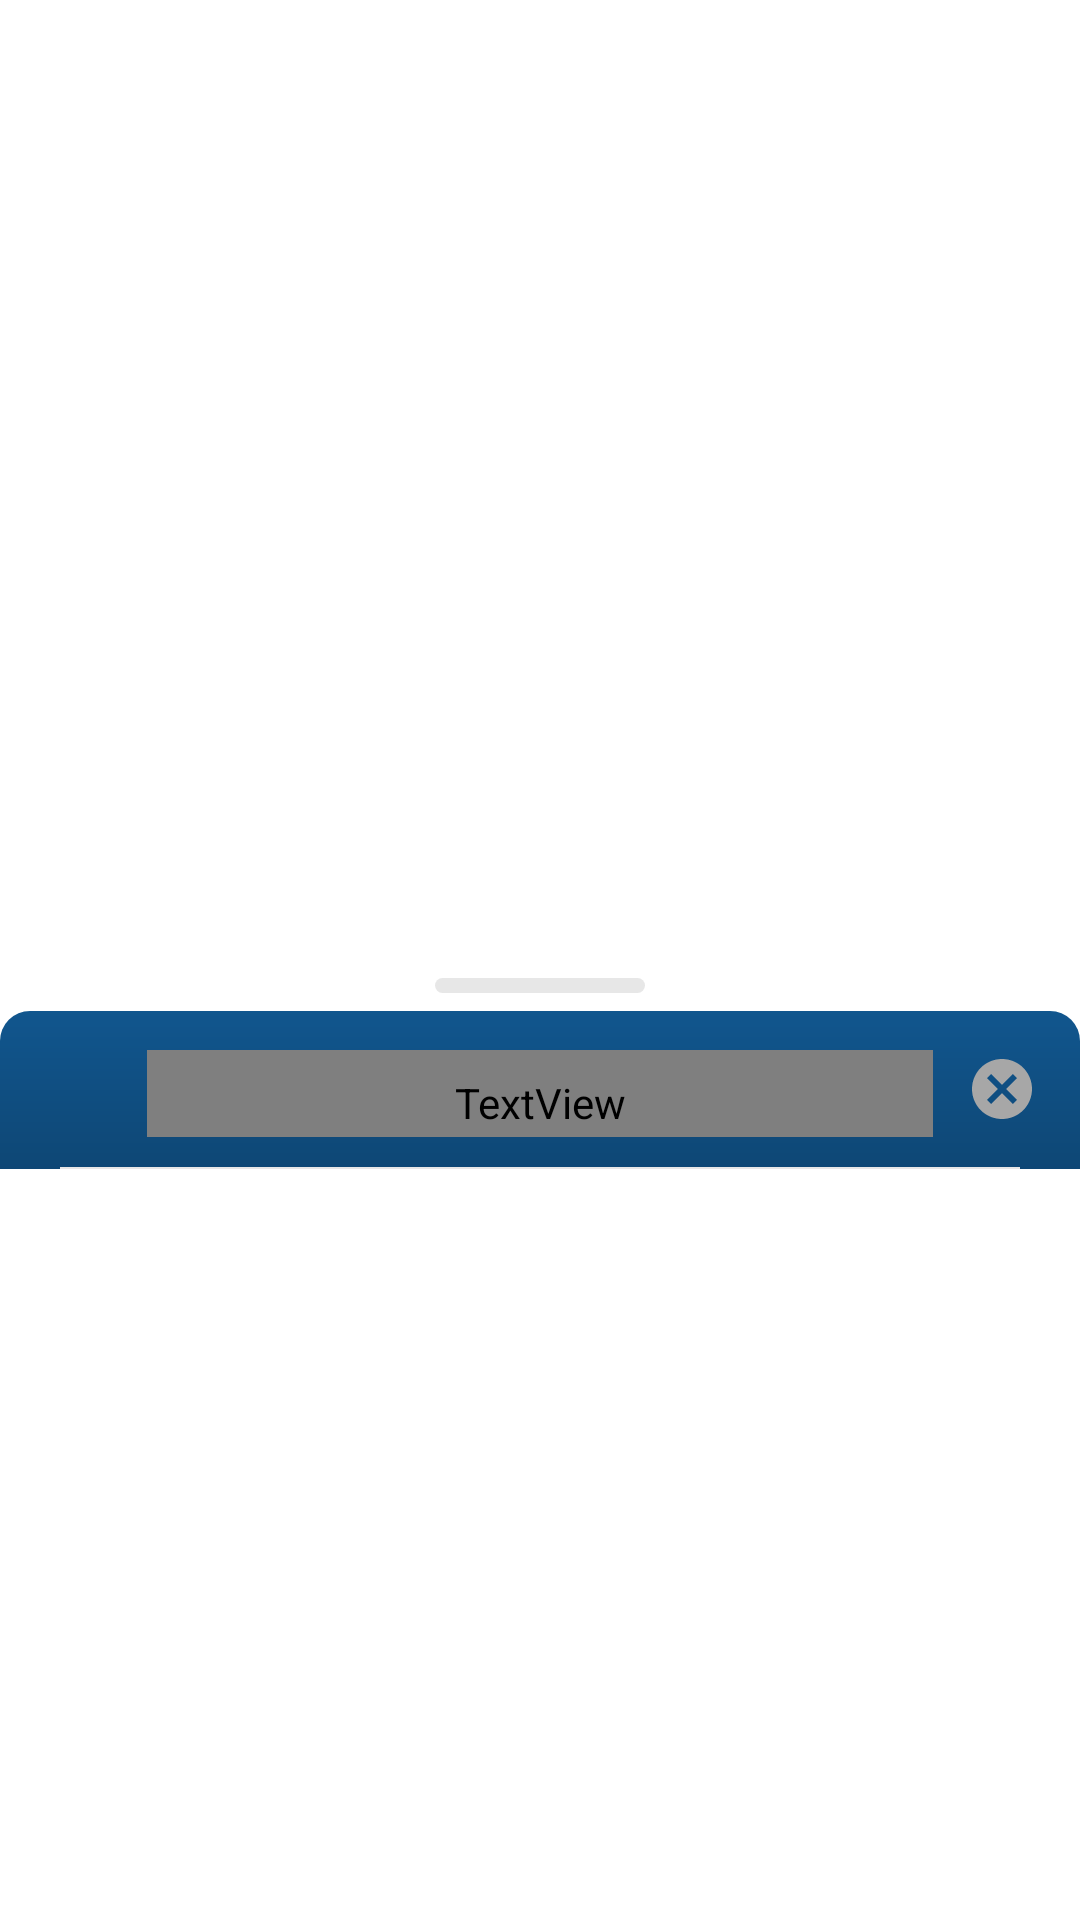

Named icons in this screenshot (1080x1920) and their bounding boxes, {"left": x1, "top": y1, "right": x2, "bottom": y2}:
close circle: {"left": 972, "top": 1059, "right": 1032, "bottom": 1119}
